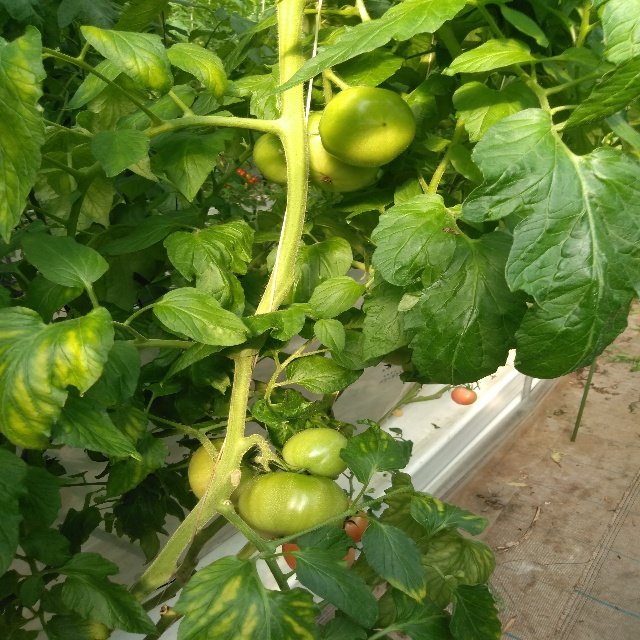b_green: (238, 471, 349, 545), (319, 86, 417, 167), (305, 110, 379, 192), (188, 437, 261, 508), (281, 427, 352, 478), (253, 132, 288, 185)
b_half_ripened: (342, 498, 368, 542), (451, 386, 477, 405)
